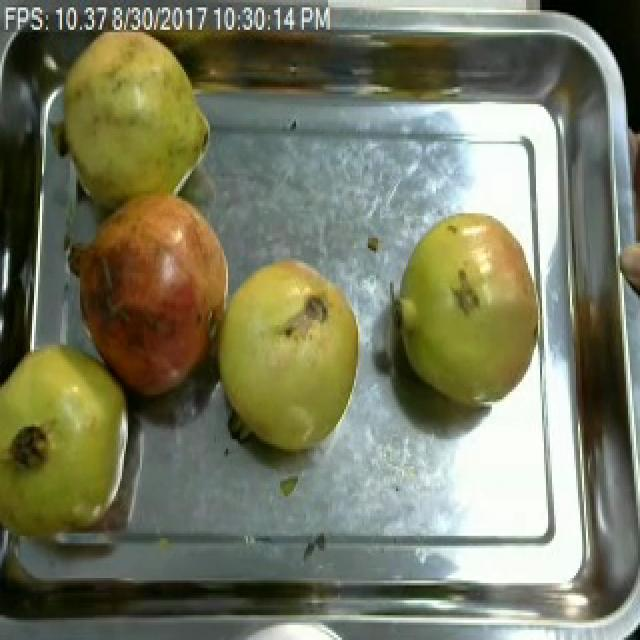fruit: (54, 169, 246, 414), (46, 5, 220, 221), (202, 246, 372, 467), (0, 322, 148, 566), (390, 196, 546, 422)
